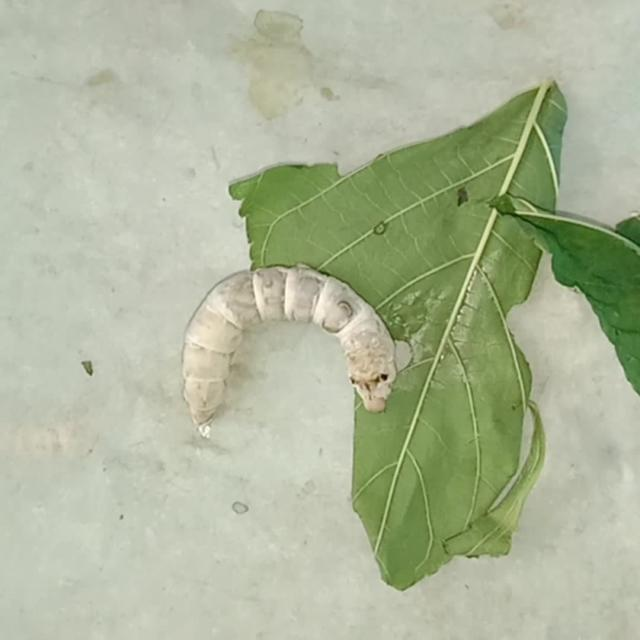Grasserie: (146, 227, 420, 481)
